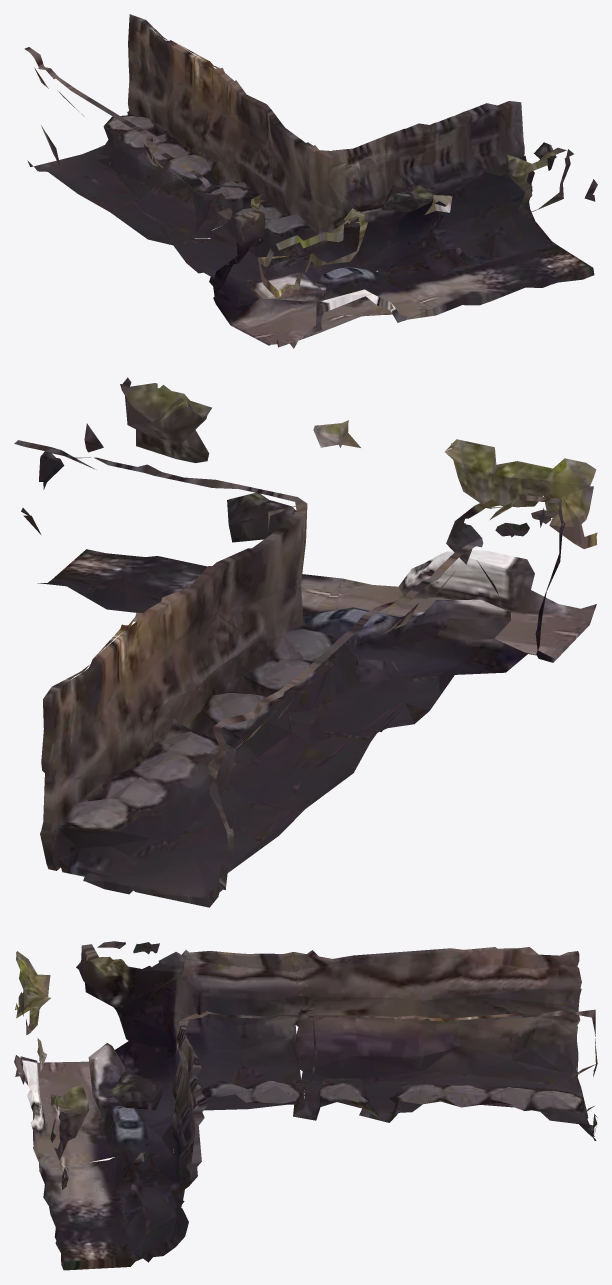
3 views of the same model, one above another, from view 1: azimuth 30°, elevation 25°; view 2: azimuth 150°, elevation 25°; view 3: azimuth 270°, elevation 25° (orthographic). The views are drawn at different scales.
Parts seen in each view (by area): view 1: Mesh_0; view 2: Mesh_0; view 3: Mesh_0.
Part boxes in pixels (left/top/right/bottom): Mesh_0: left=24, top=14, right=597, bottom=348; Mesh_0: left=14, top=377, right=597, bottom=907; Mesh_0: left=14, top=941, right=597, bottom=1270.
Bounding box in the file's own units: 30.5 × 11.36 × 39.9.
Materials: 1 (1 with a texture image).
